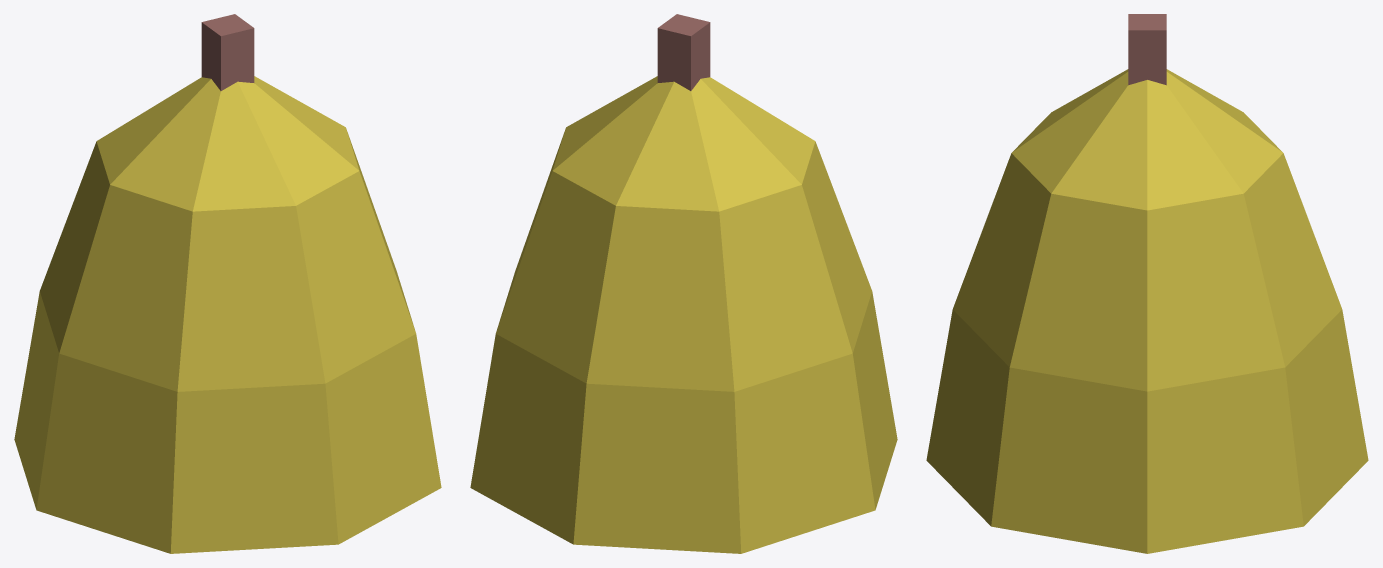
Rendered from hay_1.fbx.
3 renders of one model, left to right at view 1: azimuth 30°, elevation 25°; view 2: azimuth 150°, elevation 25°; view 3: azimuth 270°, elevation 25°, orthographic.
Visible parts, largest first — view 1: hay_1; view 2: hay_1; view 3: hay_1.
Boxes of the visible parts, box(x1,y1,x2,y2) form: hay_1: box(14, 14, 441, 553); hay_1: box(470, 14, 897, 553); hay_1: box(926, 14, 1368, 553).
Bounding box in the file's own units: 230 × 251 × 230.
